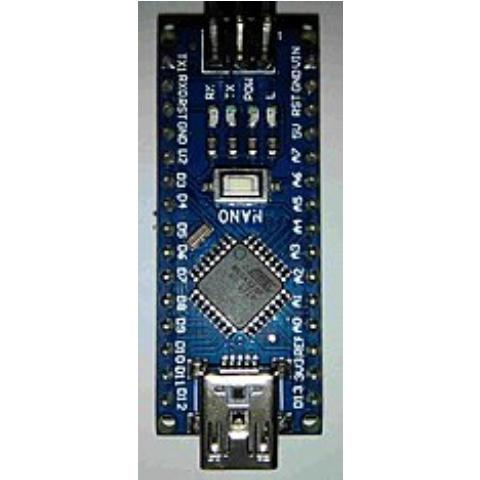Arduino-Nano: (146, 0, 334, 474)
